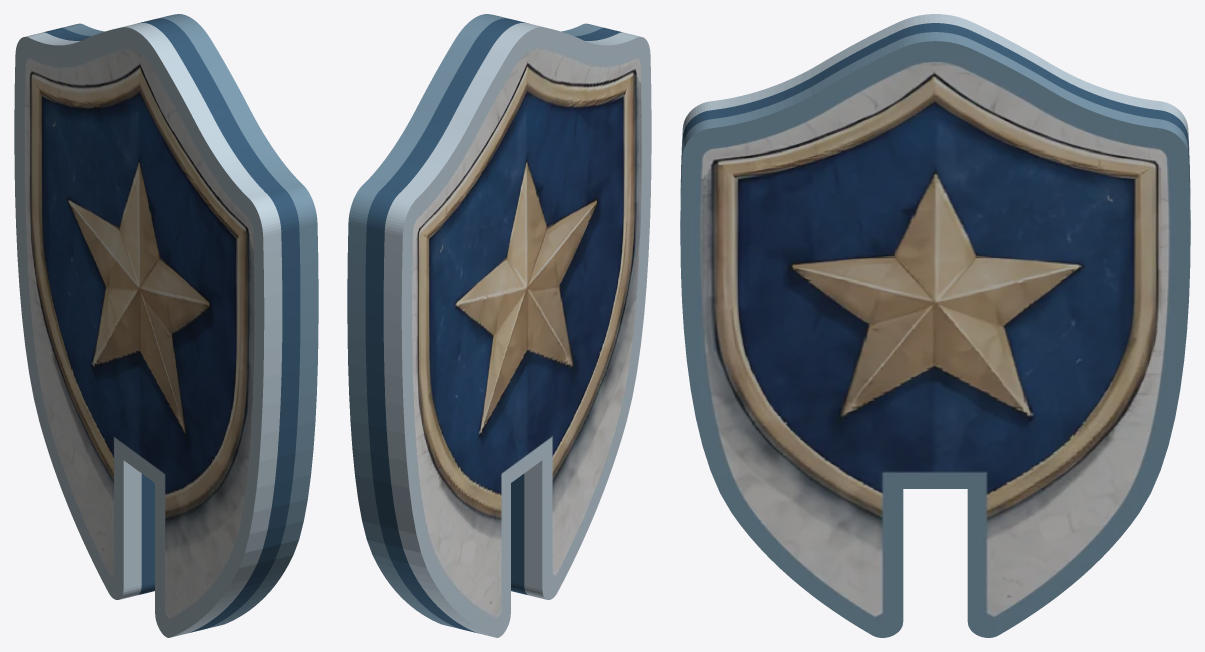
The model's file is extra-topper-03.glb.
3 renders of one model, left to right at view 1: azimuth 30°, elevation 25°; view 2: azimuth 150°, elevation 25°; view 3: azimuth 270°, elevation 25°, orthographic. The views are drawn at different scales.
Visible parts, largest first — view 1: extra-topper-03; view 2: extra-topper-03; view 3: extra-topper-03.
Boxes of the visible parts, x1=… form: extra-topper-03: x1=14, y1=14, x2=318, y2=637; extra-topper-03: x1=347, y1=14, x2=651, y2=637; extra-topper-03: x1=680, y1=14, x2=1190, y2=637.
Bounding box in the file's own units: 27 × 277 × 215.
5 materials, 2 textured.
